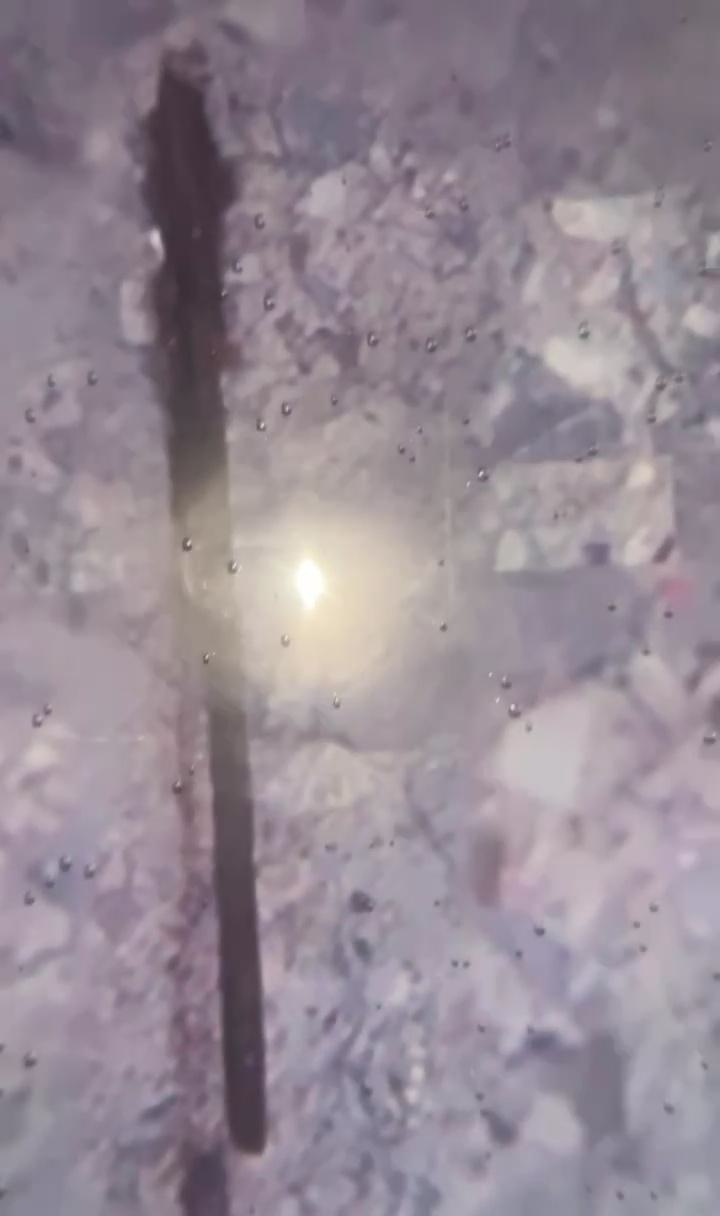Exposed reinforcement: (144, 61, 269, 1156)
